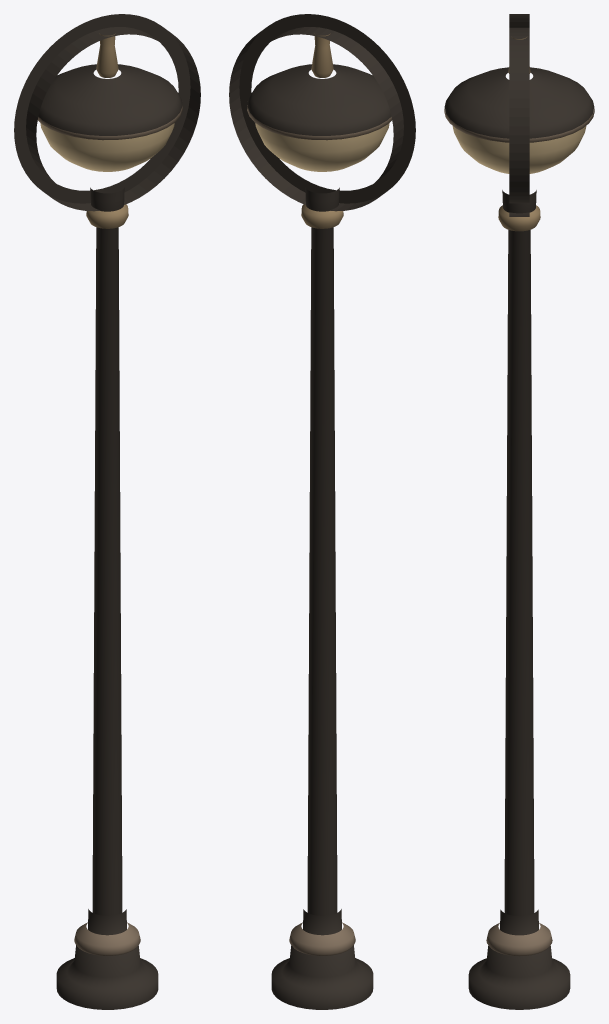
File: globe-lamp.glb
3 renders of one model, left to right at view 1: azimuth 30°, elevation 25°; view 2: azimuth 150°, elevation 25°; view 3: azimuth 270°, elevation 25°, orthographic.
Parts seen in each view (by area): view 1: Surface, Diffuser; view 2: Surface, Diffuser; view 3: Surface, Diffuser.
Part boxes in pixels (bbox=[...]): Surface: bbox=[14, 14, 200, 1009]; Diffuser: bbox=[40, 123, 174, 171]; Surface: bbox=[229, 14, 415, 1009]; Diffuser: bbox=[255, 123, 389, 171]; Surface: bbox=[444, 14, 594, 1009]; Diffuser: bbox=[452, 126, 586, 173].
Size of the model in its own units: 0.472 by 2.47 by 0.35.
